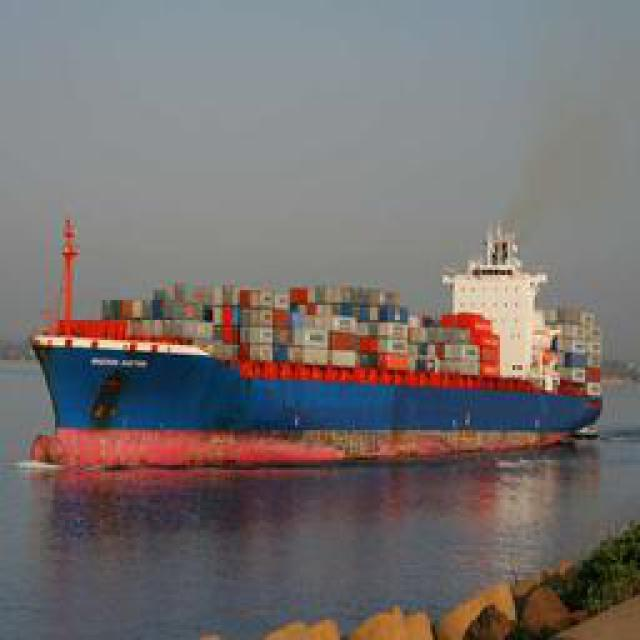Ship: (20, 225, 613, 448)
